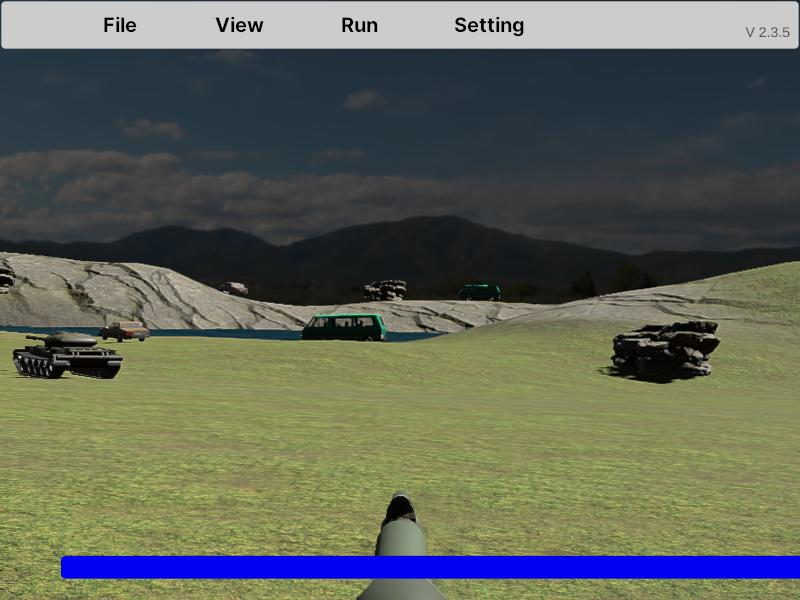Tank: (12, 330, 124, 380), (0, 247, 16, 291)
car: (301, 314, 386, 347), (100, 319, 150, 343)
